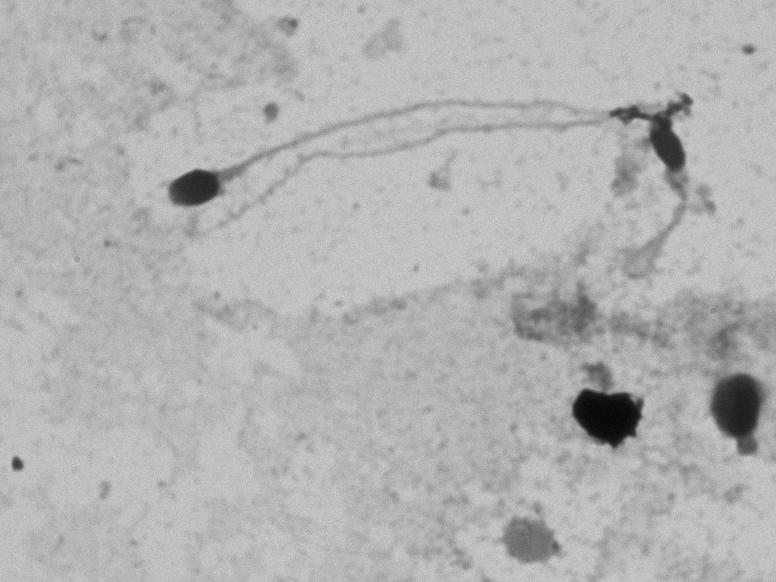Abnormal: (613, 114, 730, 290)
Normal: (148, 80, 658, 220)
